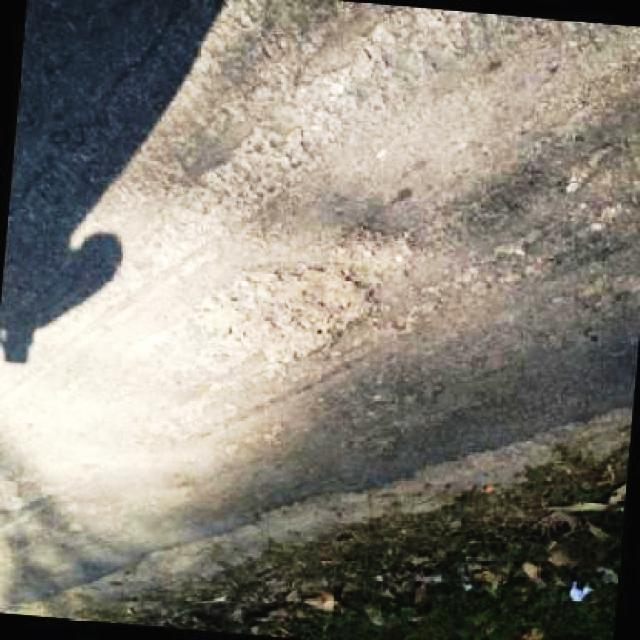pothole: (161, 220, 417, 392), (195, 50, 383, 222)
